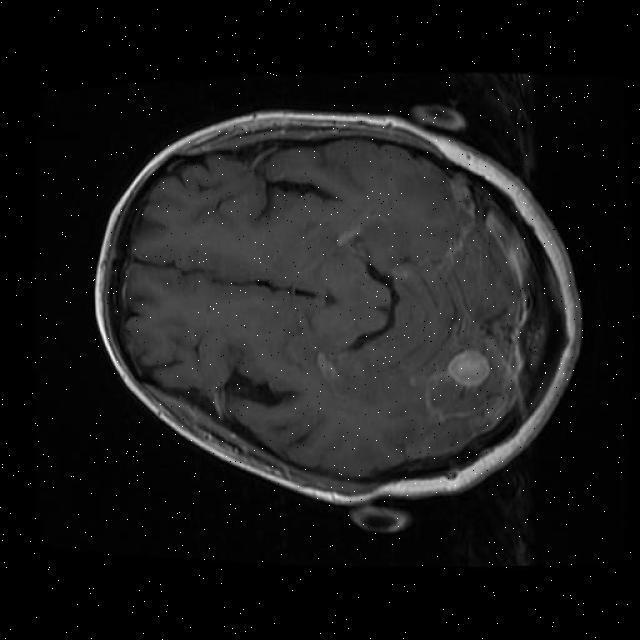Meningioma: (447, 350, 489, 387)
